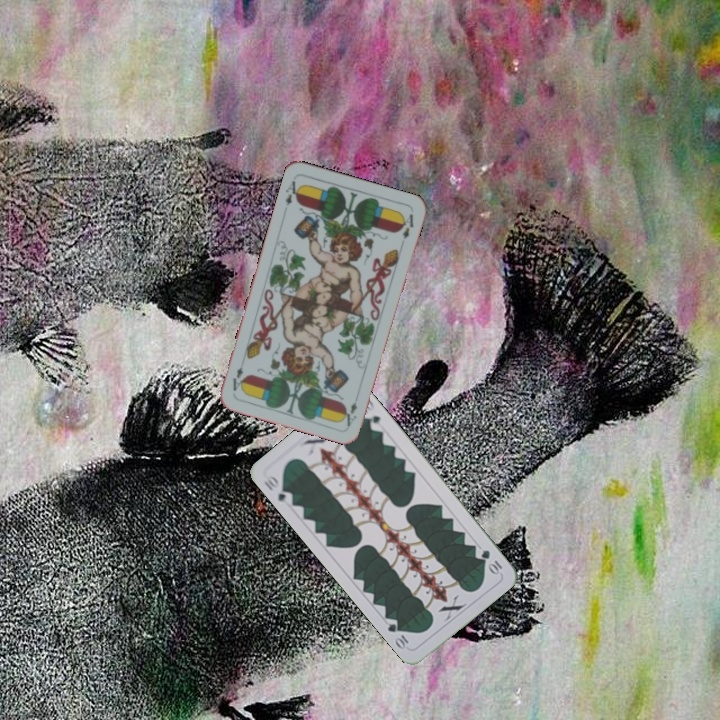EA: (281, 176, 304, 208), (340, 398, 360, 429)
G10: (260, 470, 296, 505), (477, 546, 505, 577)
